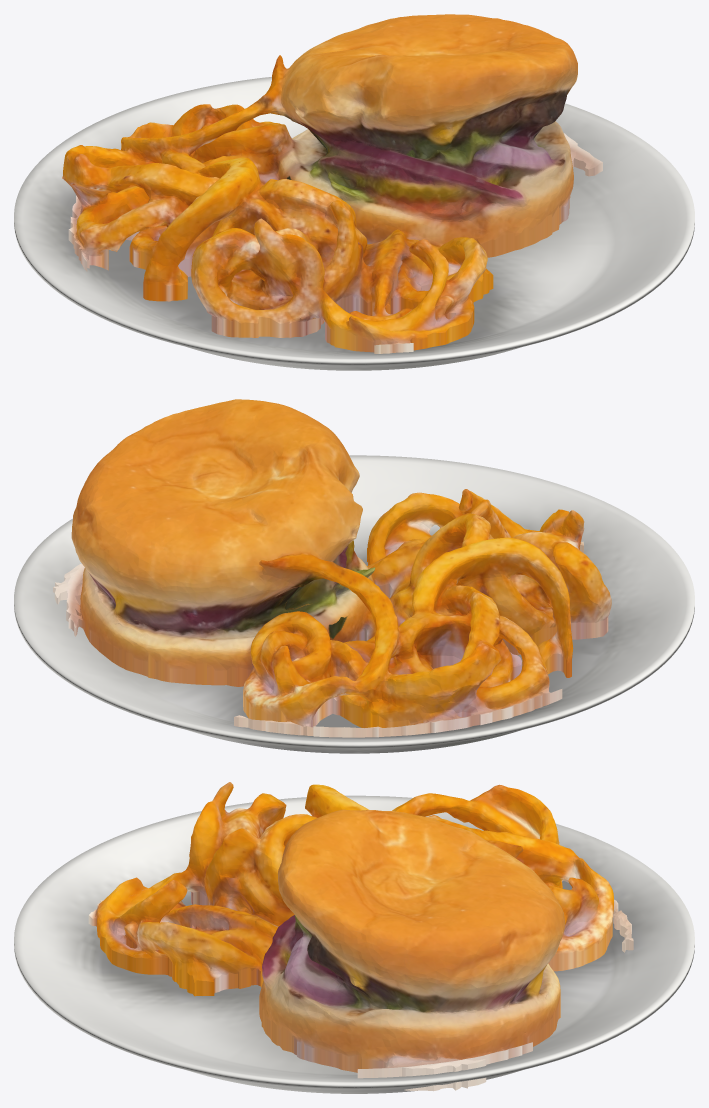
Rendered from cheeseburger-fries.glb.
The picture shows the model from 3 angles, top to bottom: view 1: azimuth 30°, elevation 25°; view 2: azimuth 150°, elevation 25°; view 3: azimuth 270°, elevation 25°; orthographic projection.
Visible parts, largest first — view 1: material, ceramic; view 2: material, ceramic; view 3: material, ceramic.
Boxes of the visible parts, left/top/right/bottom form: material: left=62, top=14, right=602, bottom=353; ceramic: left=14, top=77, right=694, bottom=370; material: left=53, top=399, right=611, bottom=737; ceramic: left=14, top=455, right=694, bottom=753; material: left=88, top=782, right=633, bottom=1091; ceramic: left=14, top=795, right=694, bottom=1093.
Bounding box in the file's own units: 0.23 × 0.0743 × 0.23.
2 materials, 2 textured.
